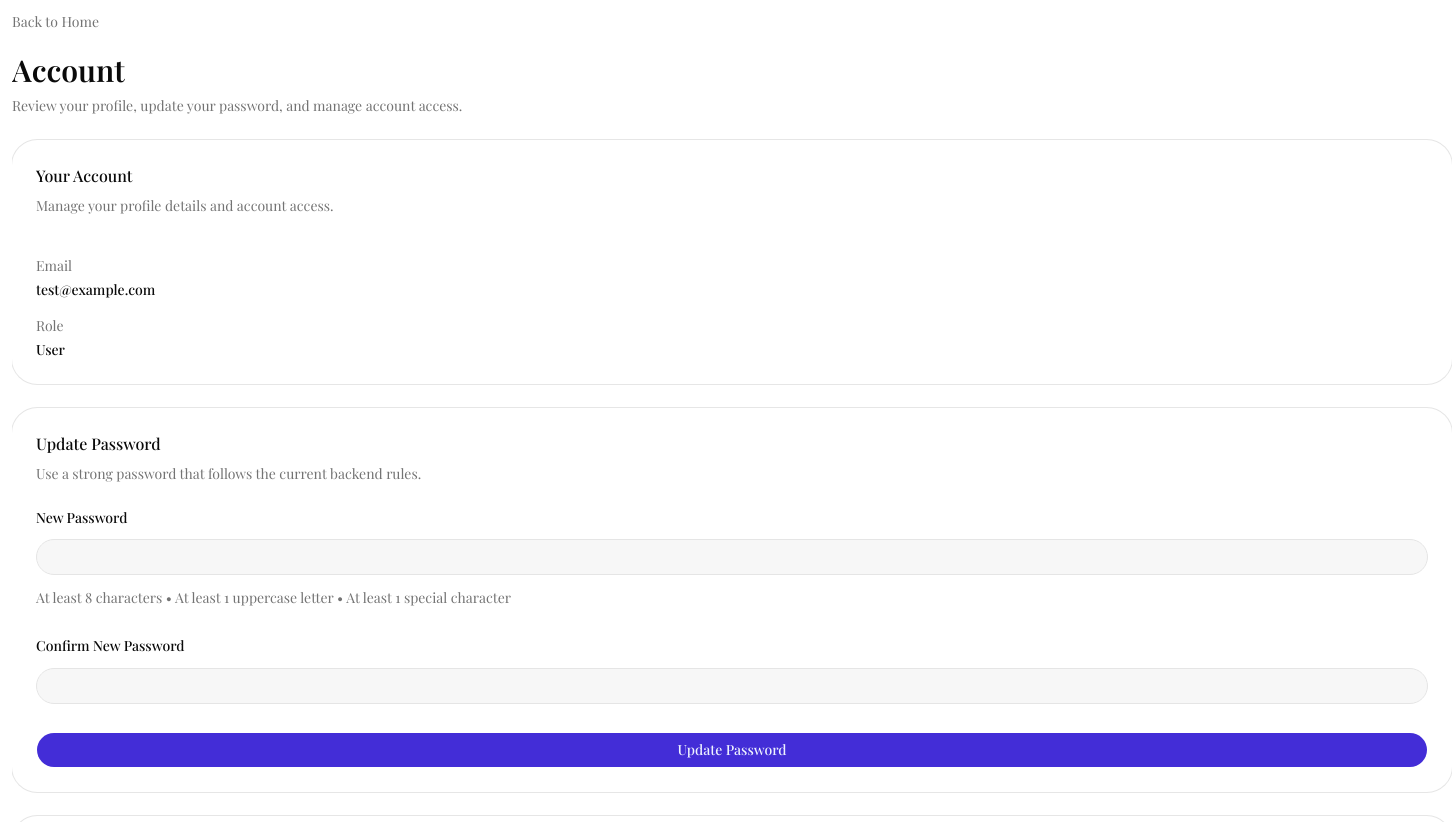
AccountPage › shows error when new passwords do not match
Expected: the text "test@example.com" is shown, top-left (36, 280), bottom-right (155, 299)
Type "Password1!" into the password field labelled "New Password" at (732, 557), box top-left (36, 539), bottom-right (1428, 575)
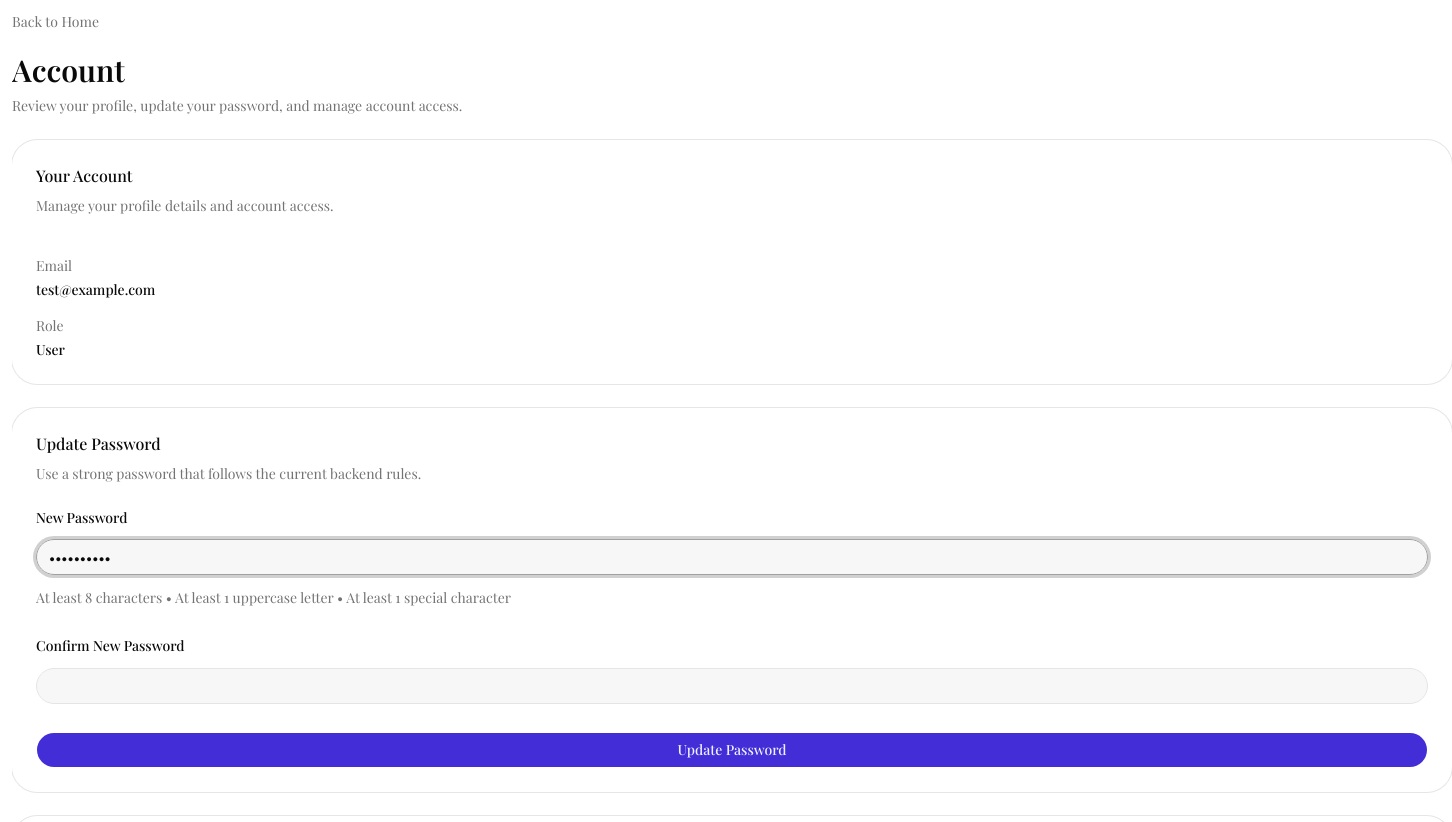
Type "Password2!" into the password field labelled "Confirm New Password" at (732, 686), box top-left (36, 668), bottom-right (1428, 704)
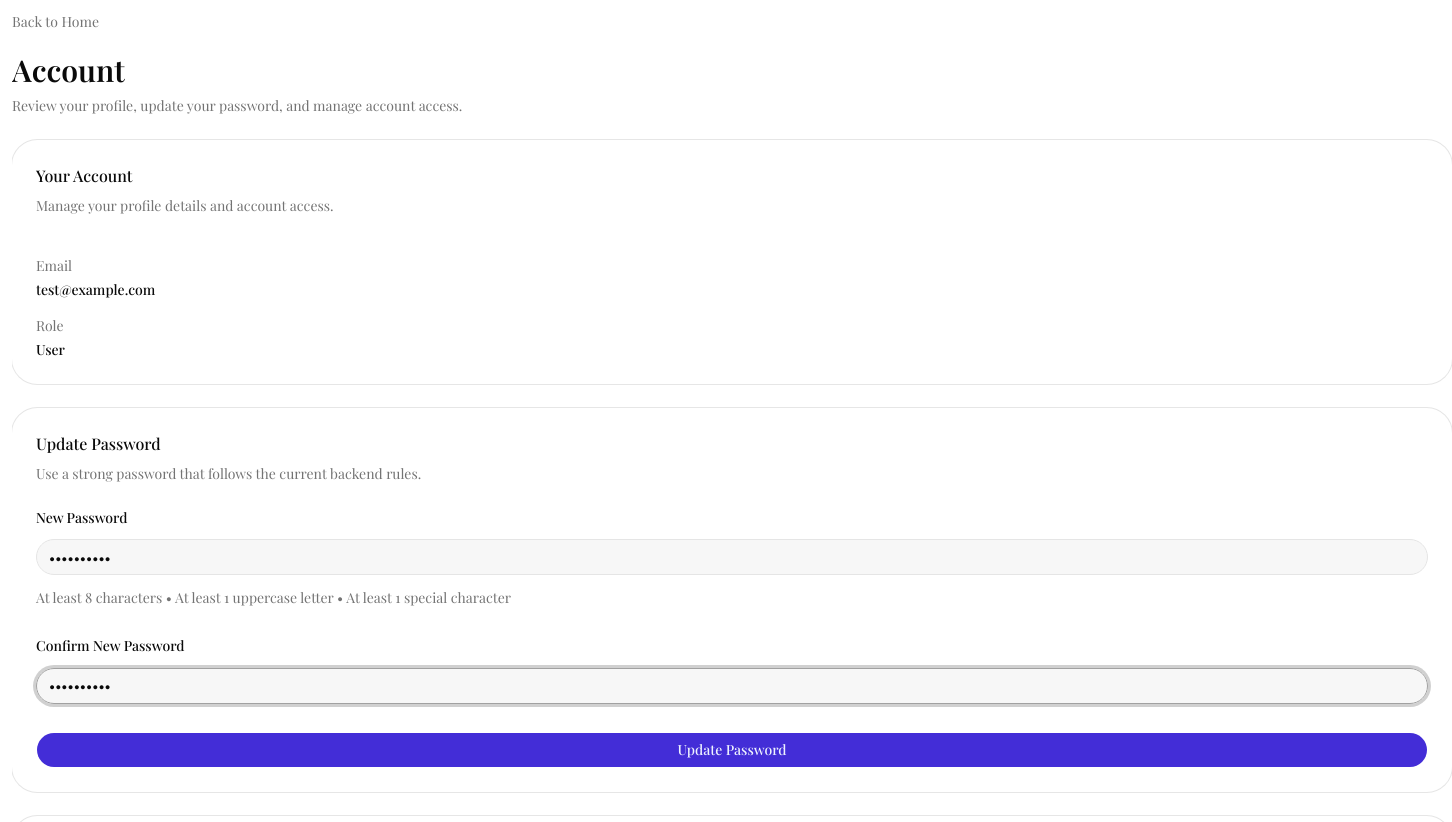
Click the button "Update Password" at (732, 750), box top-left (36, 732), bottom-right (1428, 768)
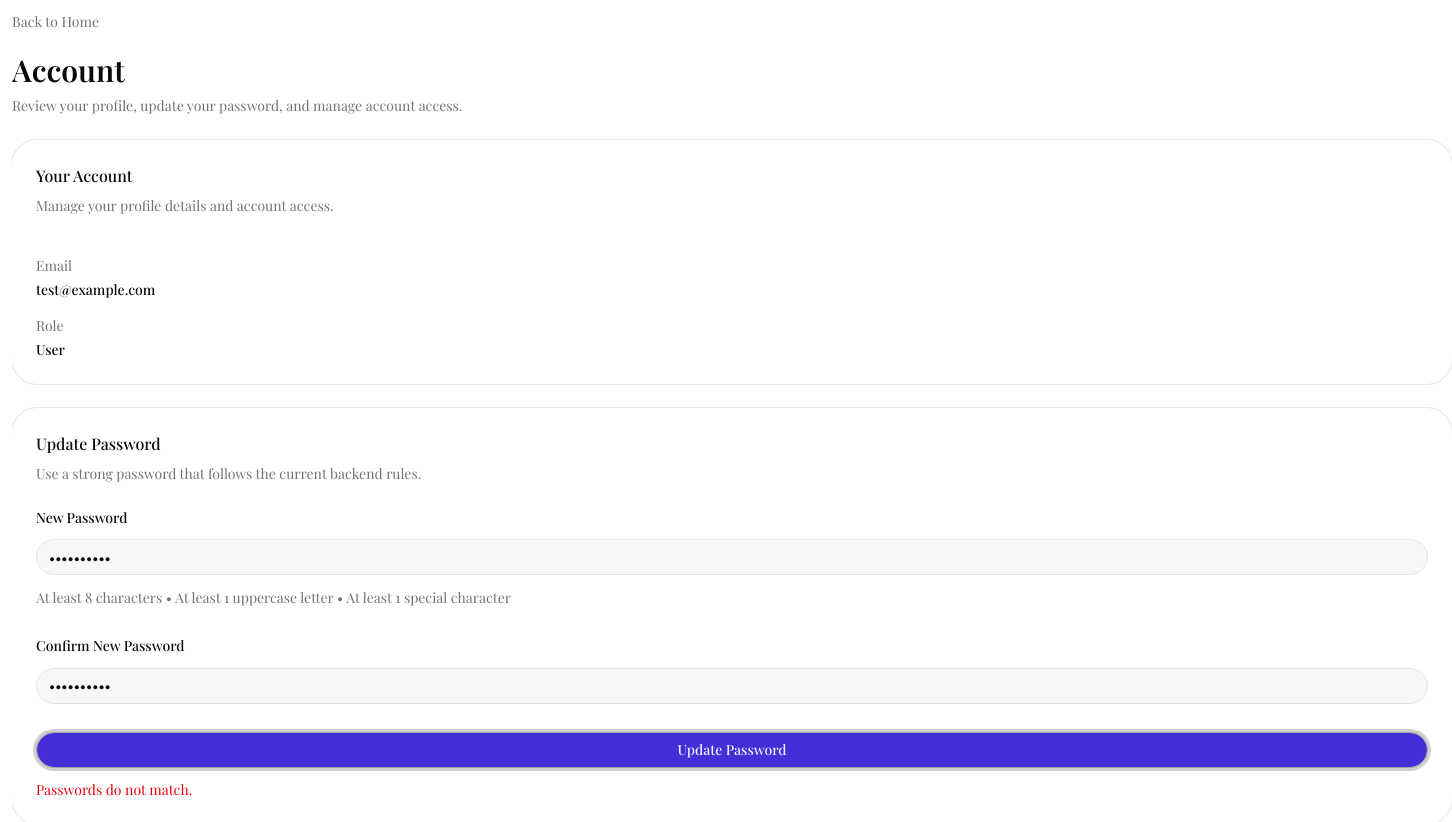
Now the text "Passwords do not match." is shown, box top-left (36, 780), bottom-right (192, 798)
